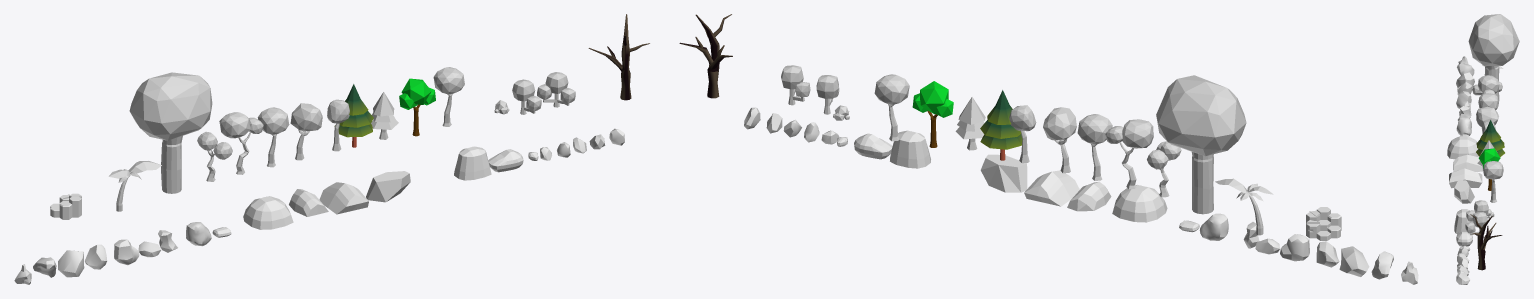
File: Modelos_avulcos.fbx
The picture shows the model from 3 angles, left to right: view 1: azimuth 30°, elevation 25°; view 2: azimuth 150°, elevation 25°; view 3: azimuth 270°, elevation 25°; orthographic projection. The views are drawn at different scales.
Parts seen in each view (by area): view 1: Arvore_mogno, Pedra_5, Pinheiro, Pedra_3, Arvore_nova_5, Pedra_6, Pedra_1, Arvore_nova_7, Arvore_nova_3, Arbusto_Duplo, Arvore_nova_8, Arvore Seca (+13 smaller); view 2: Arvore_mogno, Pedra_5, Pinheiro, Pedra_1, Arvore_nova_5, Pedra_3, Arvore_nova_7, Pedra_6, Arvore_nova_3, Arvore_nova_8, Arvore Seca, Arvore_nova_2 (+13 smaller); view 3: Arvore_mogno, Pedra_5, Arvore Seca, Pinheiro, Pedra_3, Arvore_nova_8, Pedra_4, Pedra_1, Arvore_nova_5, Arvore_nova_3, Arbusto_Duplo, Arvore_nova_7 (+18 smaller).
Boxes of the visible parts, x1,y1,x2,y2 form: Arvore_mogno: (129,72,212,193); Pedra_5: (243,196,293,229); Pinheiro: (334,84,373,147); Pedra_3: (319,182,368,214); Arvore_nova_5: (219,112,263,174); Pedra_6: (454,146,491,180); Pedra_1: (366,171,410,202); Arvore_nova_7: (399,78,435,136); Arvore_nova_3: (290,103,322,160); Arbusto_Duplo: (537,72,575,107); Arvore_nova_8: (433,67,464,126); Arvore Seca: (588,14,649,100); Arvore_mogno: (1156,75,1246,214); Pedra_5: (1112,185,1167,222); Pinheiro: (980,90,1022,160); Pedra_1: (980,154,1027,192); Arvore_nova_5: (1105,119,1153,189); Pedra_3: (1024,170,1079,206); Arvore_nova_7: (912,81,953,147); Pedra_6: (890,130,930,168); Arvore_nova_3: (1043,107,1076,173); Arvore_nova_8: (874,74,909,141); Arvore Seca: (679,14,732,98); Arvore_nova_2: (1077,114,1112,180); Arvore_mogno: (1468,14,1519,100); Pedra_5: (1447,136,1478,159); Arvore Seca: (1470,214,1502,270); Pinheiro: (1476,120,1504,157); Pedra_3: (1449,168,1482,188); Arvore_nova_8: (1483,161,1503,202); Pedra_4: (1453,154,1482,171); Pedra_1: (1454,179,1474,203); Arvore_nova_5: (1478,75,1499,93); Arvore_nova_3: (1476,106,1498,127); Arbusto_Duplo: (1465,212,1487,235); Arvore_nova_7: (1478,148,1500,190).
Bounding box in the file's own units: 4454 × 1061 × 600.
